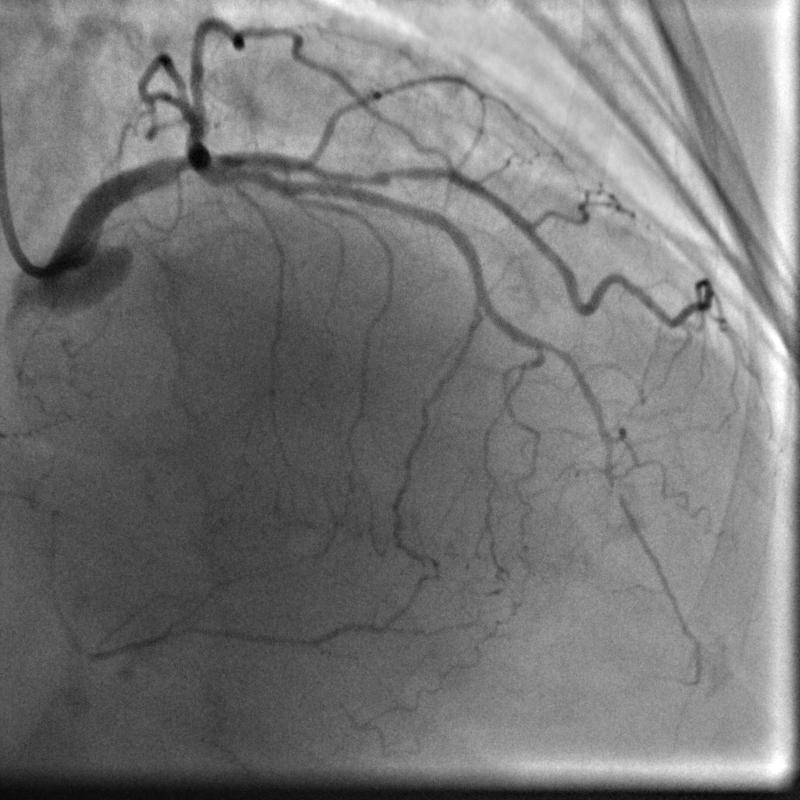Stenosis: (347, 158, 420, 186)
